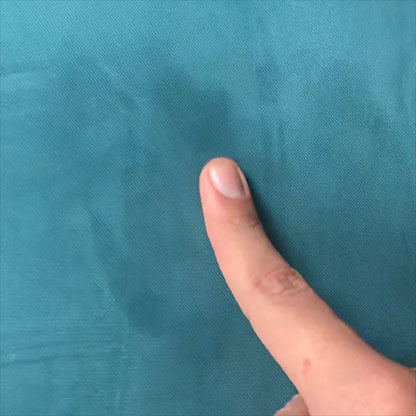fingertip: (177, 142, 275, 220)
